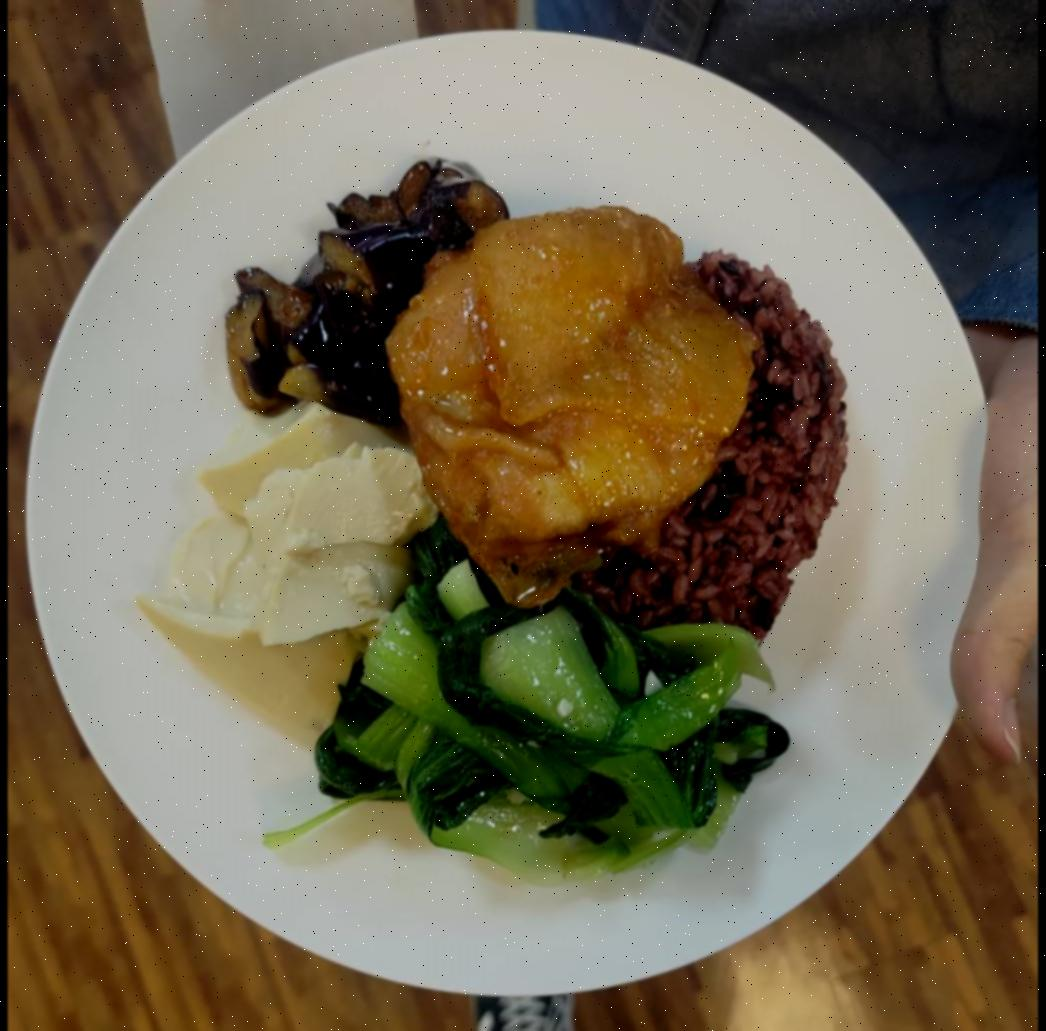grilled chicken leg steak: (366, 203, 762, 594)
plate: (23, 12, 1001, 1013)
purple rice: (563, 246, 845, 668)
side dish: (308, 570, 791, 883), (211, 158, 508, 418), (128, 404, 435, 650)
